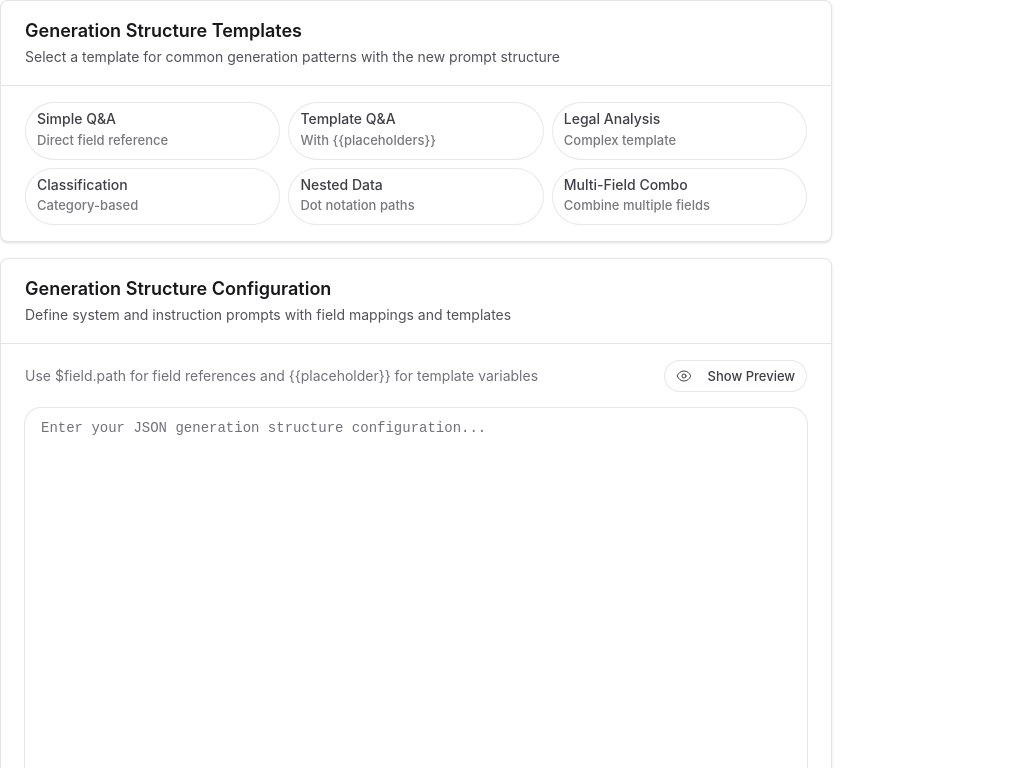
Test: GenerationStructureEditor › Complex Validation Scenarios › should validate complete legal analysis structure
What coordinates should you click on to do the following:
click the button "Legal Analysis Complex template"
I would click on:
 (680, 131)
Its box is [552, 102, 807, 160].
(page scrolled)
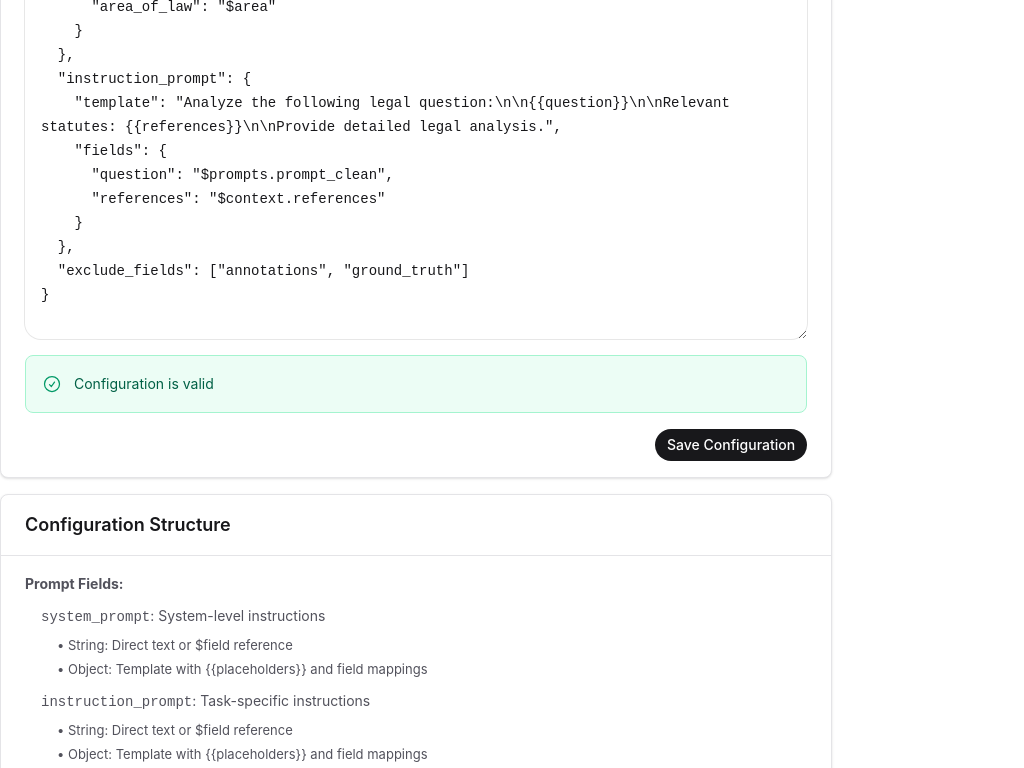
Now the text "Configuration is valid" is shown, box [74, 375, 214, 392]
